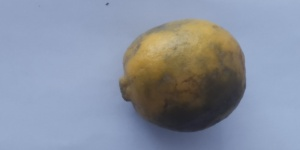BAD: (117, 18, 248, 133)
